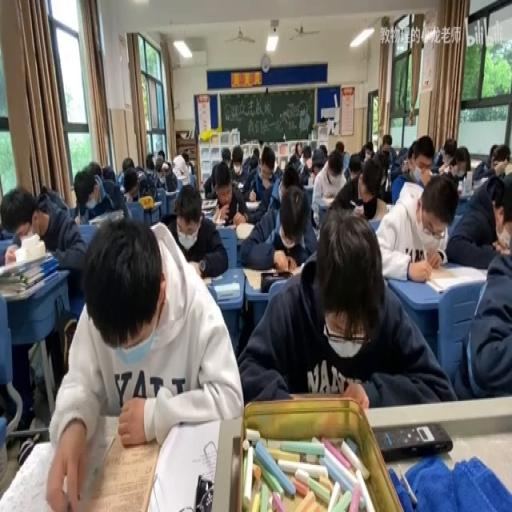calculator: (0, 414, 167, 512), (424, 263, 485, 293), (214, 282, 240, 298), (234, 222, 256, 240), (453, 189, 470, 209), (0, 237, 14, 260), (211, 204, 226, 224), (318, 194, 336, 208), (302, 184, 313, 206), (471, 175, 487, 189), (200, 199, 217, 209), (245, 199, 260, 209), (206, 273, 222, 282), (428, 166, 439, 176), (150, 199, 162, 206), (236, 181, 243, 189), (349, 198, 355, 206)
paper: (238, 208, 453, 410), (2, 180, 85, 422), (451, 180, 512, 400), (167, 180, 227, 278), (272, 179, 318, 262), (330, 154, 386, 220), (73, 165, 127, 225), (245, 151, 281, 222), (390, 142, 430, 205), (471, 144, 509, 182), (39, 179, 68, 211), (154, 156, 178, 192), (432, 135, 458, 168), (279, 164, 301, 199), (121, 165, 141, 202), (377, 132, 396, 168), (228, 144, 245, 180), (203, 164, 219, 198), (297, 154, 312, 184), (453, 148, 469, 176), (347, 151, 362, 179), (141, 176, 157, 200), (180, 150, 193, 174), (287, 146, 301, 168), (362, 139, 374, 161), (101, 164, 116, 180), (122, 155, 134, 171), (221, 146, 231, 165), (407, 142, 416, 161), (318, 142, 328, 158), (146, 152, 155, 168), (334, 140, 344, 154), (251, 145, 259, 162), (136, 169, 146, 181), (394, 148, 405, 158), (157, 149, 164, 161), (506, 162, 512, 176)
person: (374, 422, 451, 461), (261, 270, 294, 292), (194, 474, 214, 509)
